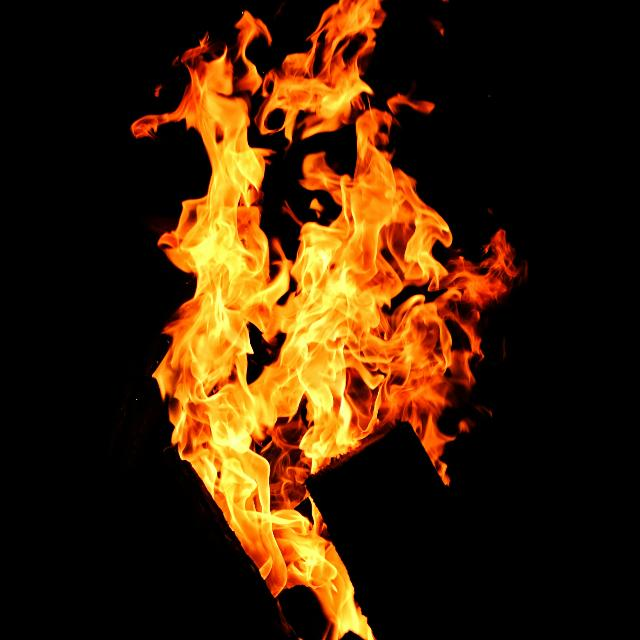fire: (134, 0, 519, 640)
